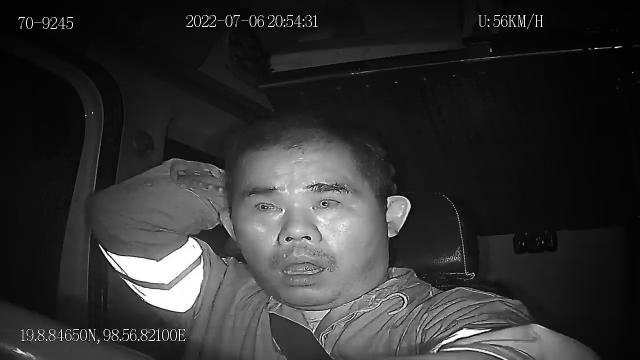SafeDriving: (304, 187, 351, 216), (247, 190, 290, 218)
Seatbelt: (264, 307, 334, 360)
